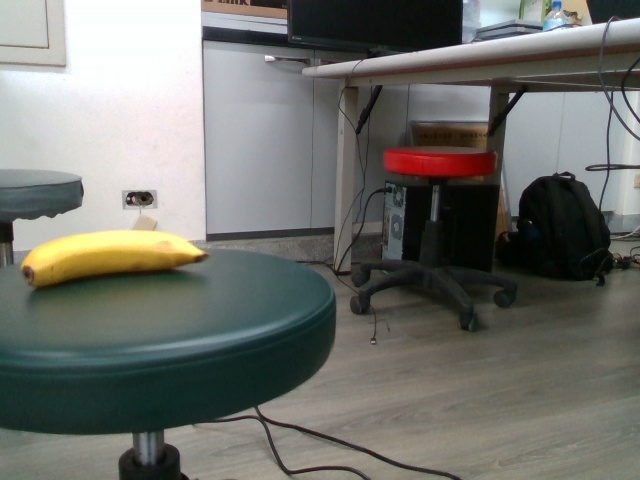banana: (21, 228, 208, 287)
